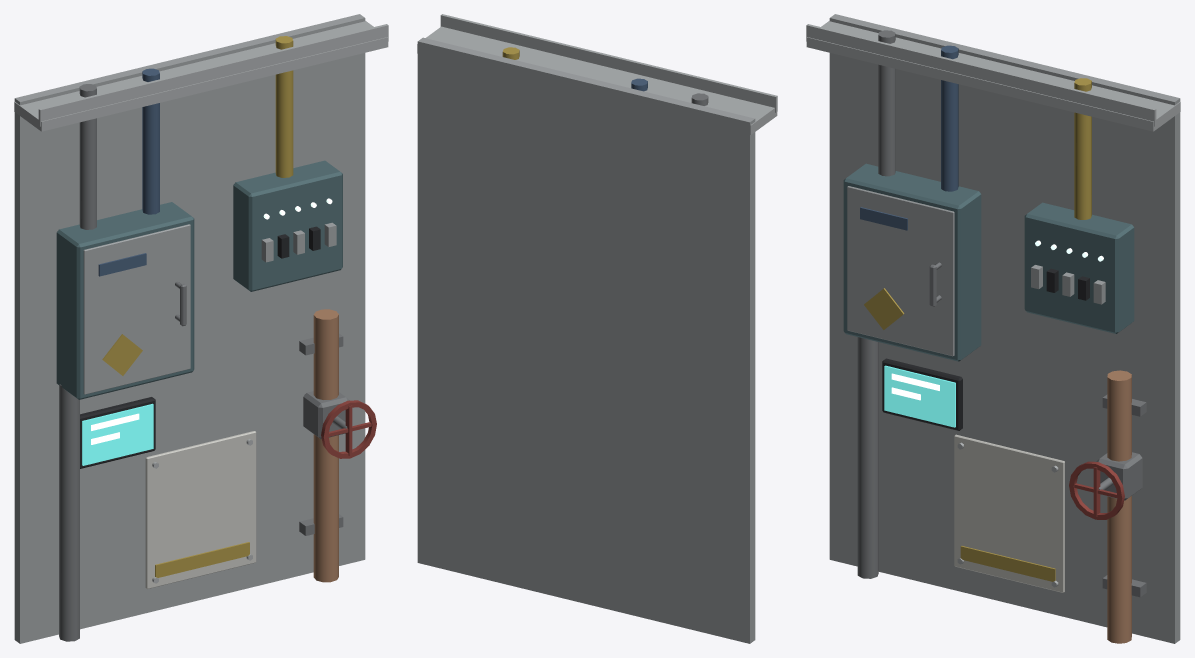
The model's file is astro_maintenance_panel.fbx.
3 views of the same model, side by side, from view 1: azimuth 30°, elevation 25°; view 2: azimuth 150°, elevation 25°; view 3: azimuth 330°, elevation 25° (orthographic). The views are drawn at different scales.
Parts seen in each view (by area): view 1: MaintenancePanel_Body; view 2: MaintenancePanel_Body; view 3: MaintenancePanel_Body.
Part boxes in pixels (box(x1,y1,x2,y2)): MaintenancePanel_Body: box(14, 14, 388, 643); MaintenancePanel_Body: box(417, 14, 777, 643); MaintenancePanel_Body: box(806, 14, 1180, 643).
Size of the model in its own units: 222 by 335 by 42.
